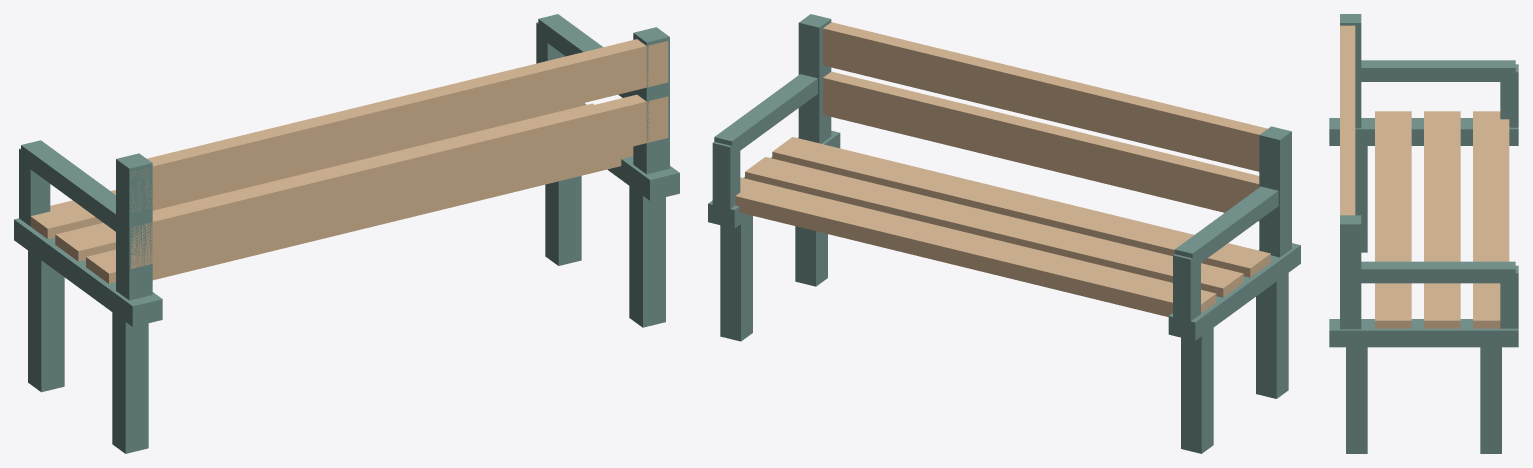
The model's file is Prop_Bench_A.fbx.
The picture shows the model from 3 angles, left to right: view 1: azimuth 30°, elevation 25°; view 2: azimuth 150°, elevation 25°; view 3: azimuth 270°, elevation 25°; orthographic projection. The views are drawn at different scales.
Visible parts, largest first — view 1: Prop_Bench_A; view 2: Prop_Bench_A; view 3: Prop_Bench_A.
Boxes of the visible parts, x1,y1,x2,y2 form: Prop_Bench_A: (14,14,679,453); Prop_Bench_A: (708,14,1300,453); Prop_Bench_A: (1329,14,1518,453).
Bounding box in the file's own units: 1.65 × 0.83 × 0.62.
